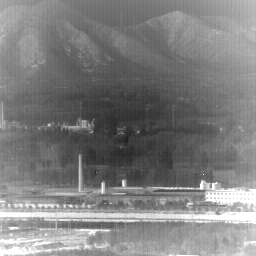aircraft: (120, 146, 122, 148)
